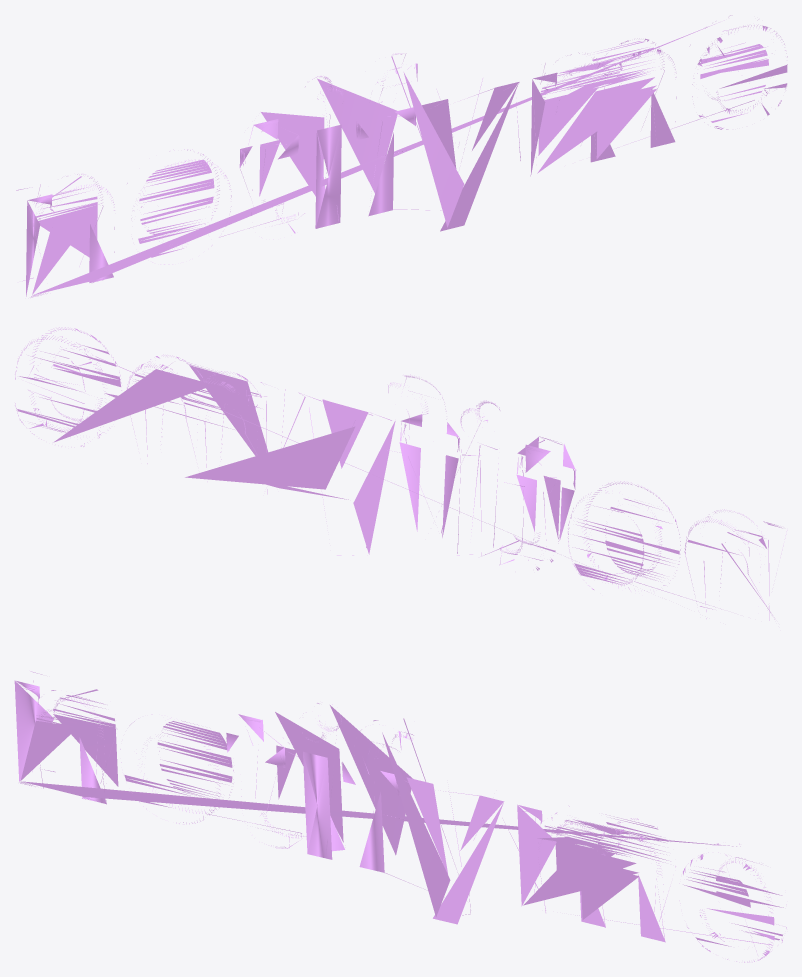
The model's file is notifyme.gltf.
3 views of the same model, one above another, from view 1: azimuth 30°, elevation 25°; view 2: azimuth 150°, elevation 25°; view 3: azimuth 330°, elevation 25° (orthographic). The views are drawn at different scales.
Bounding box in the file's own units: 3.1 × 0.7173 × 0.2303.
